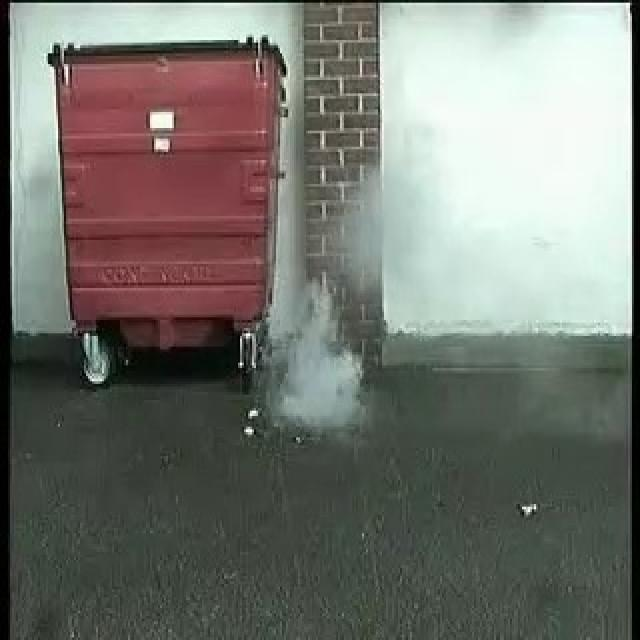smoke: (271, 276, 359, 426)
